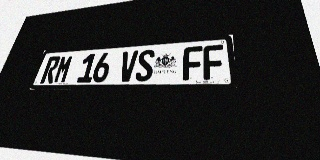1: (77, 53, 98, 83)
6: (91, 52, 112, 82)
F: (203, 44, 225, 80), (183, 46, 203, 80)
M: (53, 55, 74, 83)
R: (40, 56, 61, 83)
S: (135, 49, 155, 81)
V: (118, 50, 139, 82)
